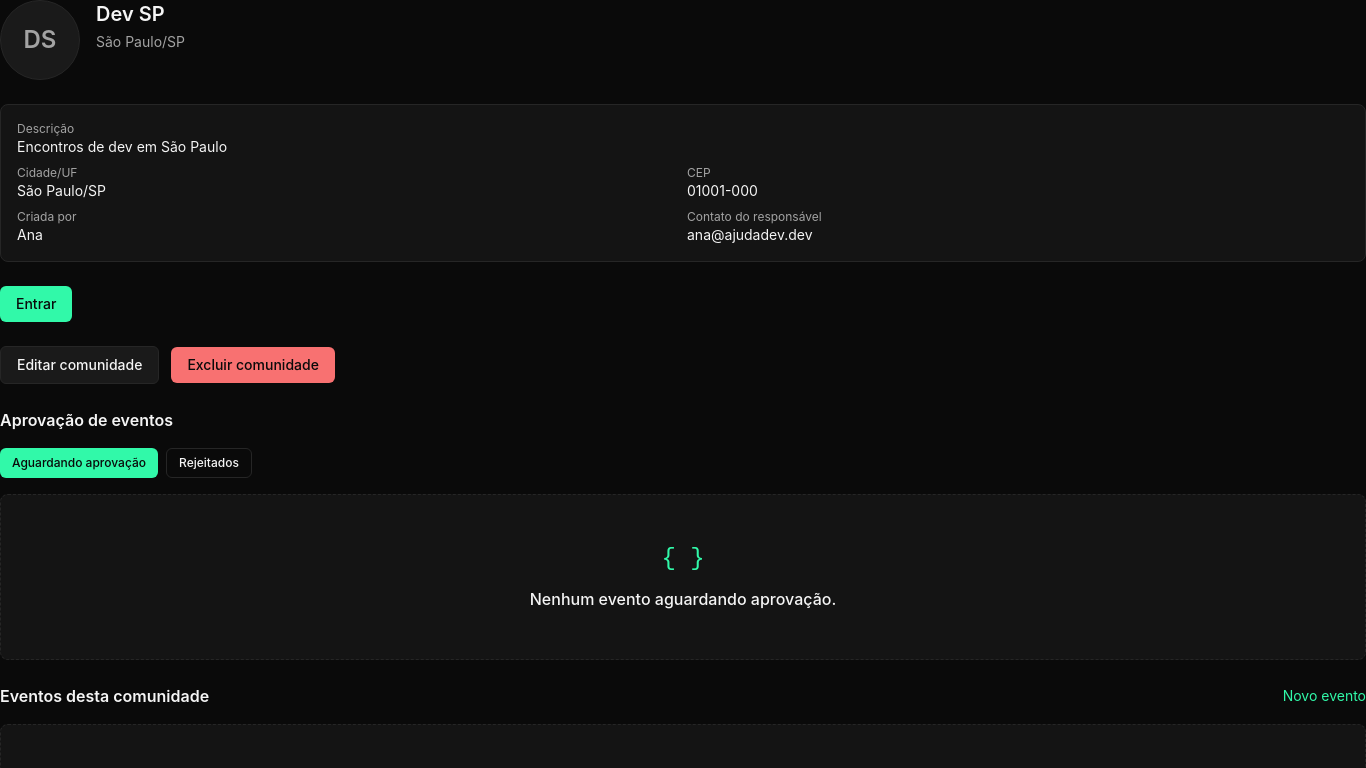
Test case: CommunityDetailPage › MODERATOR vê o botão em comunidade alheia com aviso reforçado
Click the button "Excluir comunidade". click: (253, 365)
box: [171,347,335,383]
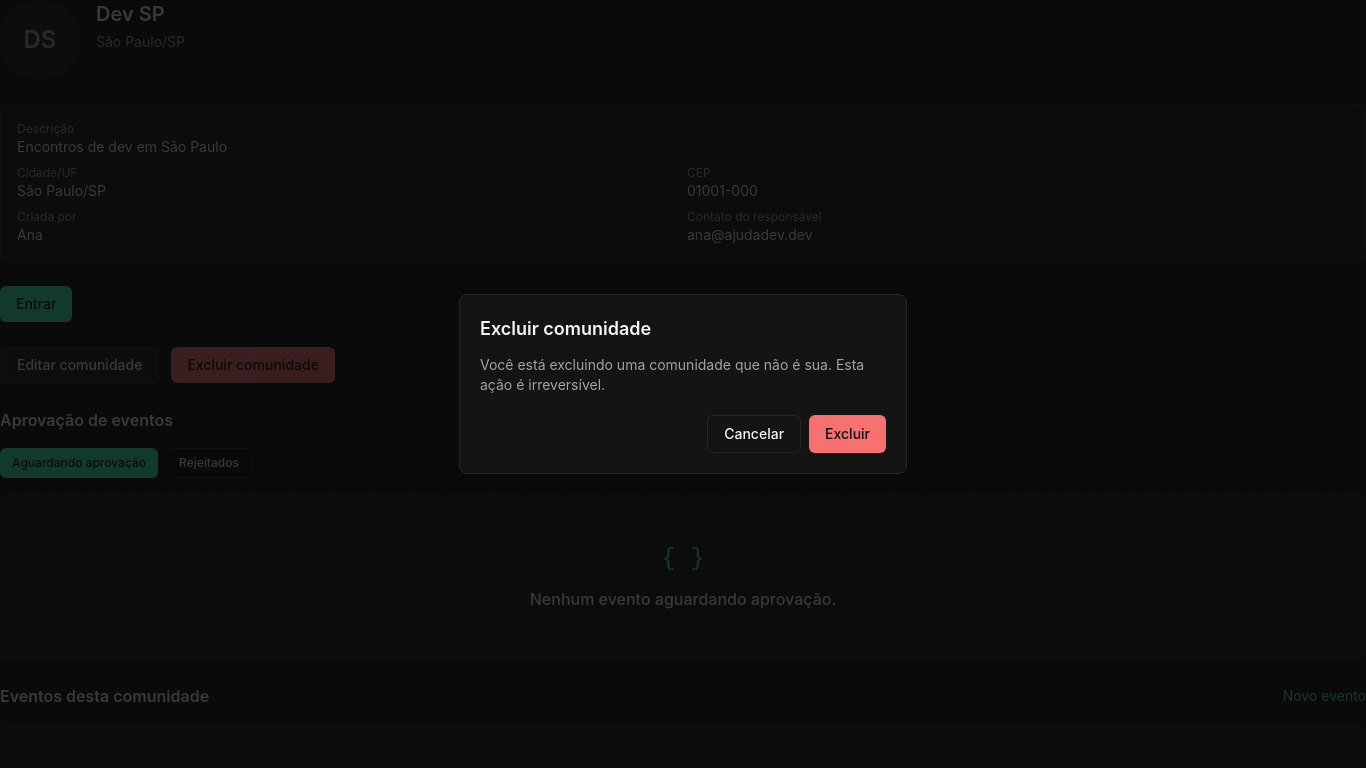
Now the text "Você está excluindo uma comunidade que não é sua" is shown, box [480,356,864,393]
